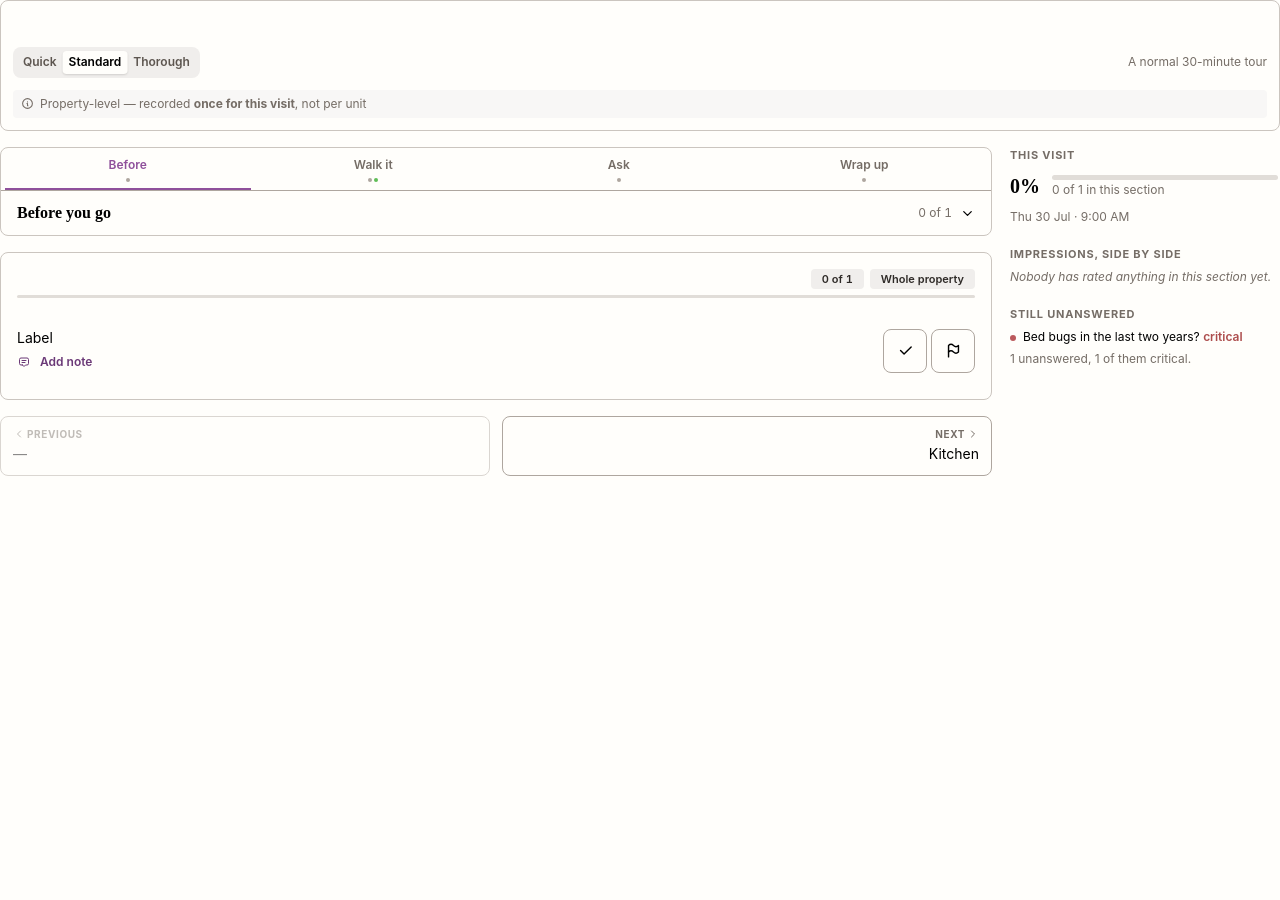
Scenario: the red-flag tally › names who flagged it, because a lone flag is information not noise
Click the button "Before you go 0 of 1".
click(64, 212)  # box [13, 191, 979, 235]
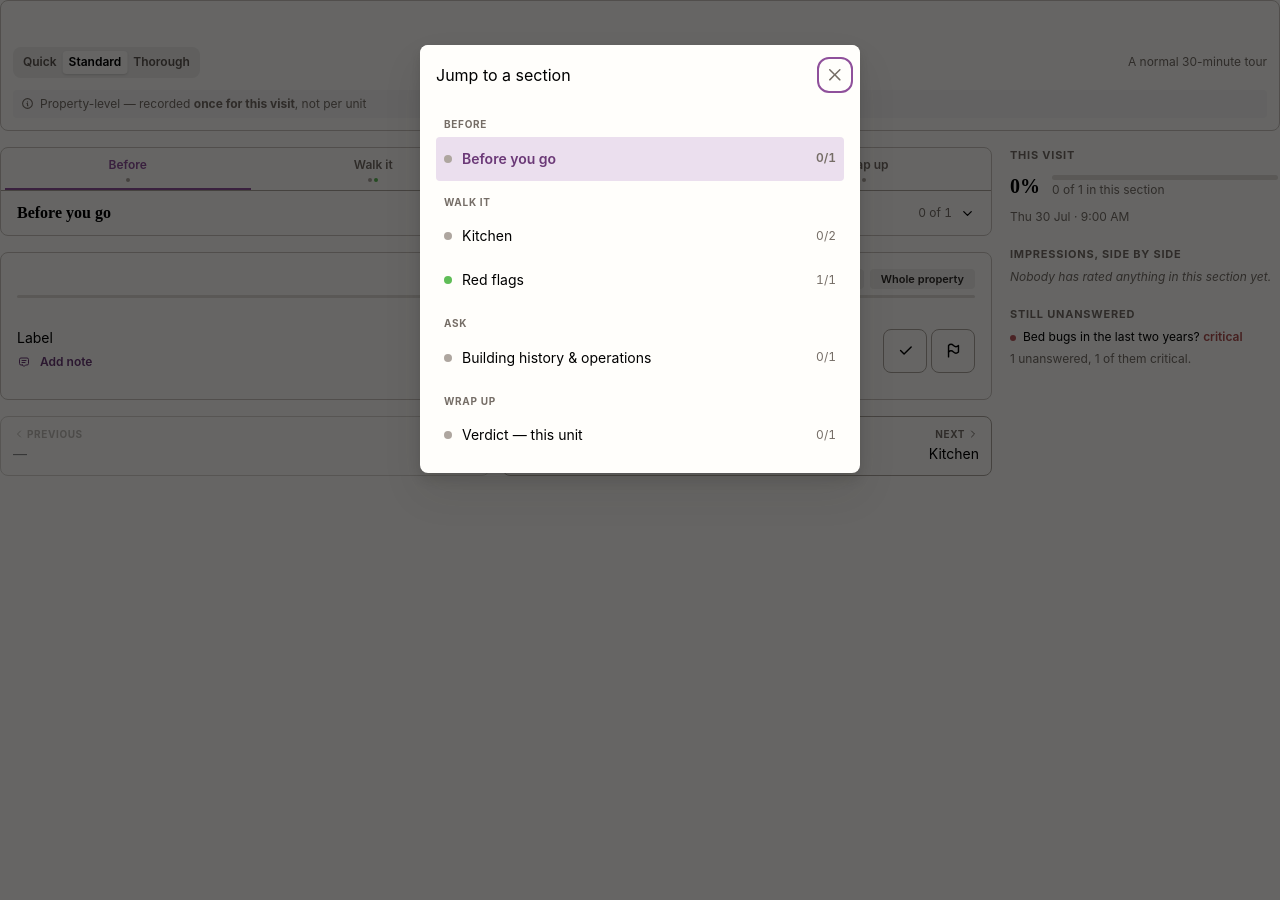
Click the button "Red flags 1/1".
click(493, 280)  # box [436, 258, 844, 302]
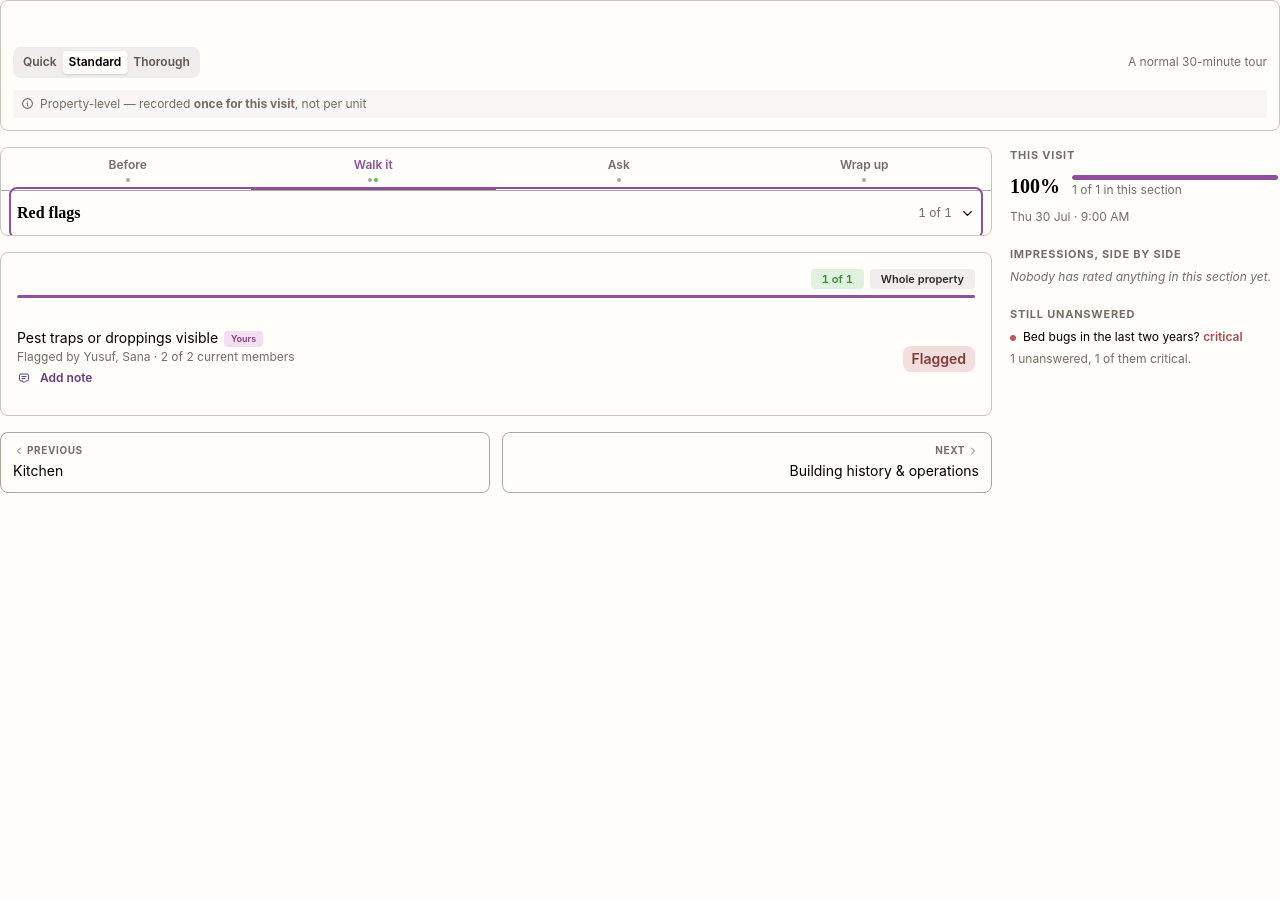
Expected: the text "Flagged by Yusuf, Sana · 2 of 2 current members" is shown, [17, 349, 295, 364]
